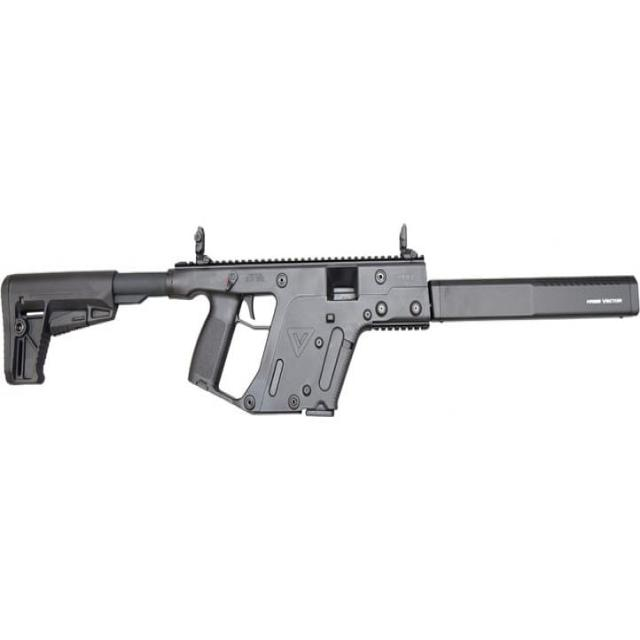SMG: (0, 227, 640, 419)
